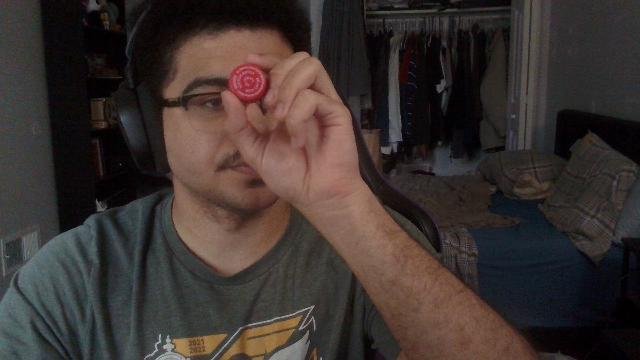cap: (228, 64, 268, 102)
